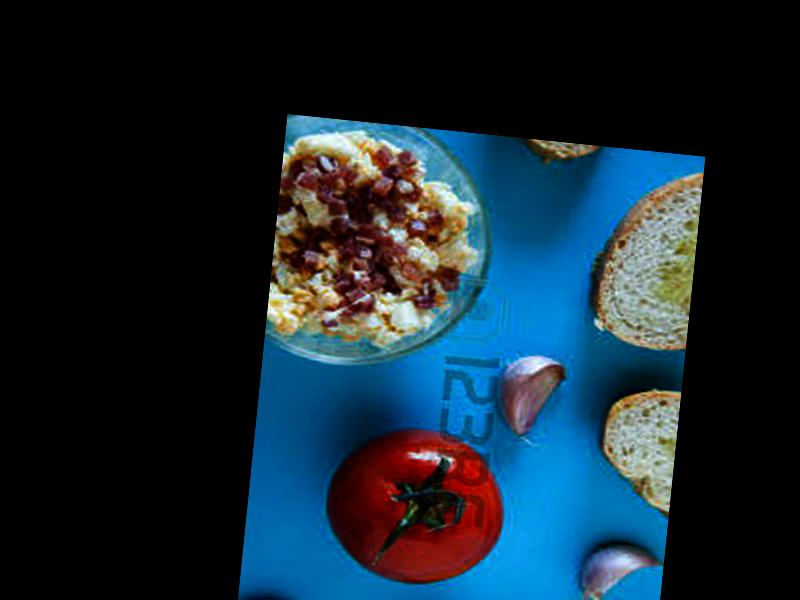Tomato: (320, 426, 511, 592)
